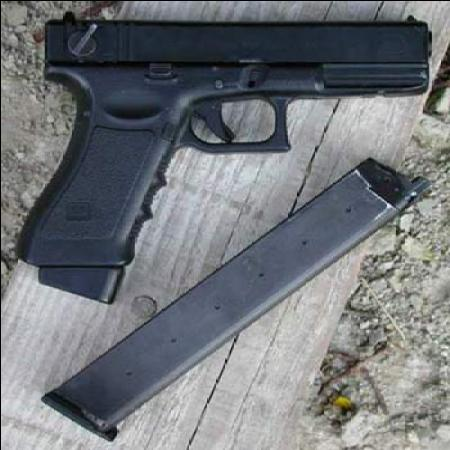Pistol: (21, 12, 433, 300)
